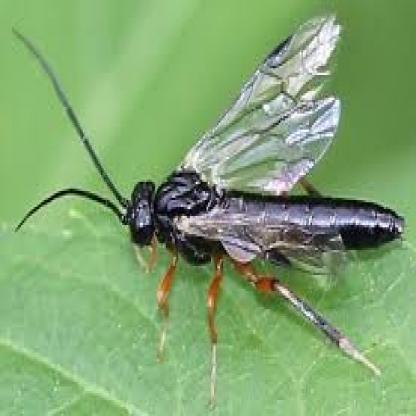sawfly: (5, 13, 407, 400)
